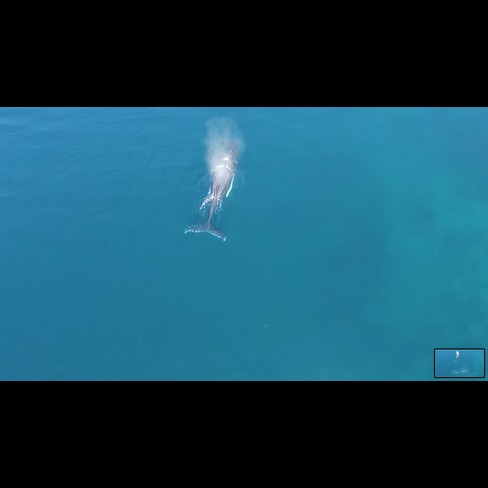hump: (183, 129, 245, 246)
